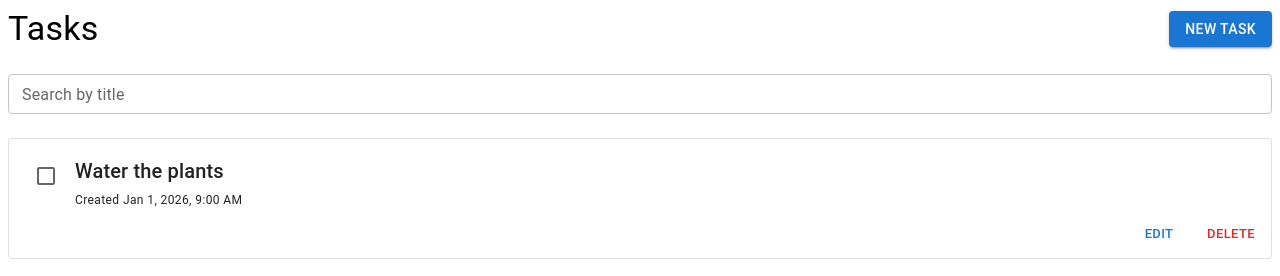
Test case: TaskList › marks a task as completed
This screenshot has width=1280, height=276.
Check: the heading "Water the plants" is shown, box [75,155,242,187]
Click the checkbox named "Mark \"Water the plants\" as completed" at (46, 176), box [34,164,58,188]
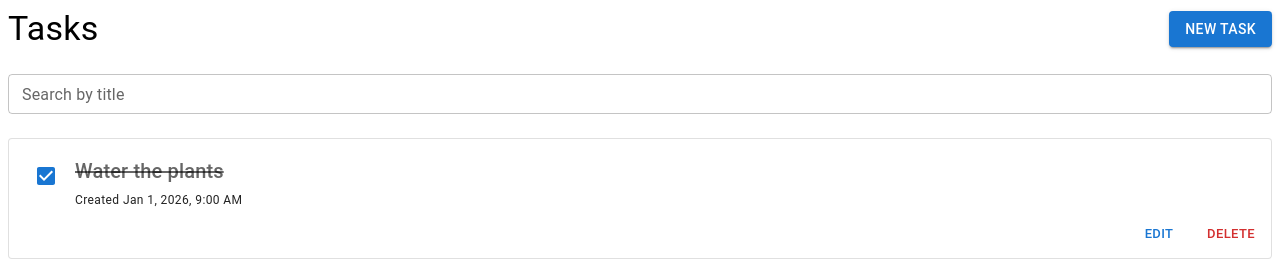
Check: the checkbox named "Water the plants" is checked, box [34,164,58,188]
